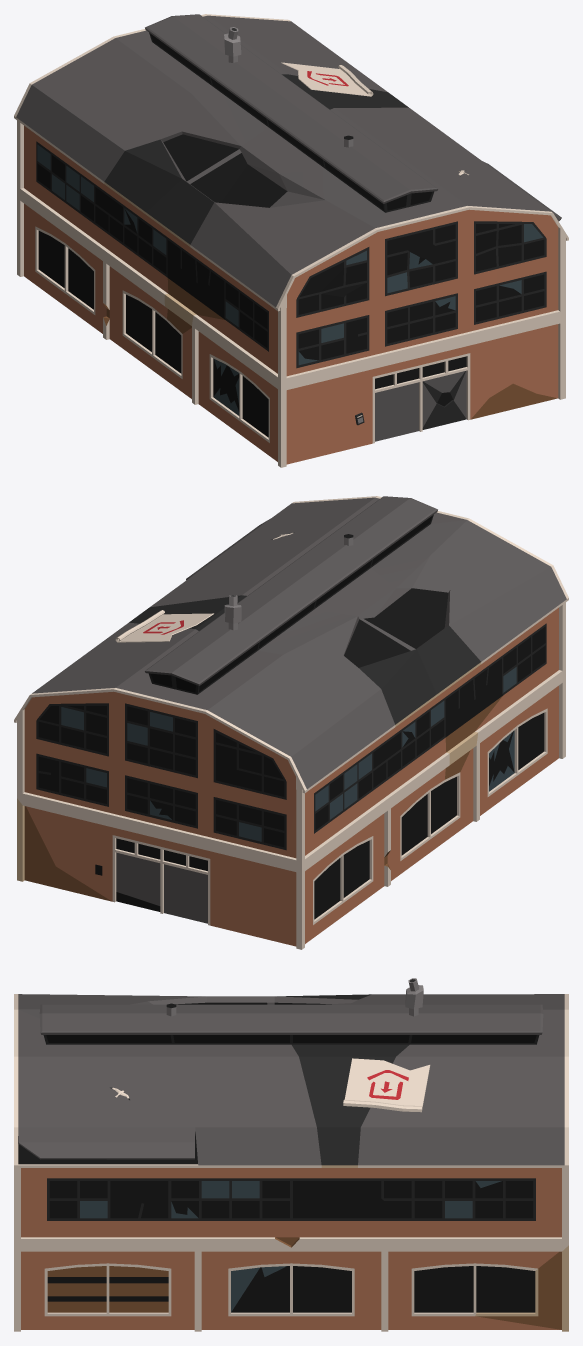
The model's file is apocalypse_industry-factory-hall-apocalypse.fbx.
3 renders of one model, top to bottom at view 1: azimuth 30°, elevation 25°; view 2: azimuth 150°, elevation 25°; view 3: azimuth 270°, elevation 25°, orthographic. The views are drawn at different scales.
Visible parts, largest first — view 1: apocalypse_industry_factory_hall_apocalypse; view 2: apocalypse_industry_factory_hall_apocalypse; view 3: apocalypse_industry_factory_hall_apocalypse.
Part boxes in pixels (bbox=[...]): apocalypse_industry_factory_hall_apocalypse: bbox=[14, 14, 568, 467]; apocalypse_industry_factory_hall_apocalypse: bbox=[14, 496, 568, 949]; apocalypse_industry_factory_hall_apocalypse: bbox=[14, 978, 568, 1331].
Size of the model in its own units: 130 by 111 by 200.
